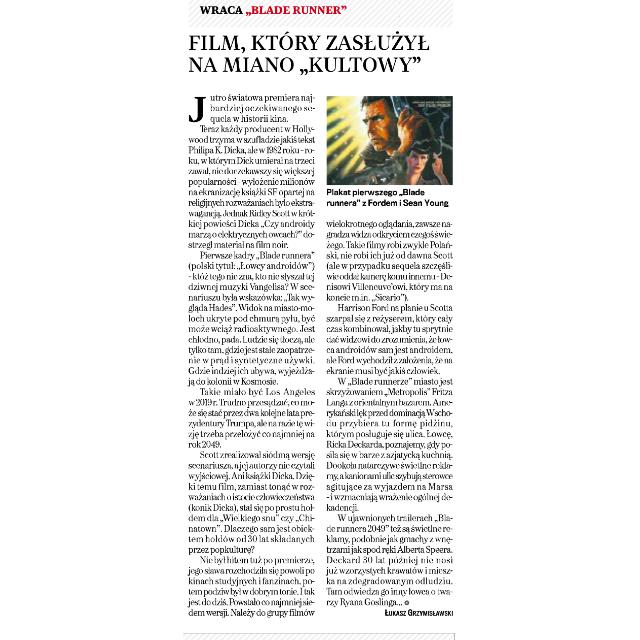author: (382, 606, 456, 620)
body: (184, 90, 318, 622), (322, 217, 458, 607)
caption: (324, 188, 450, 208)
image: (324, 94, 454, 186)
title: (186, 3, 434, 78)
